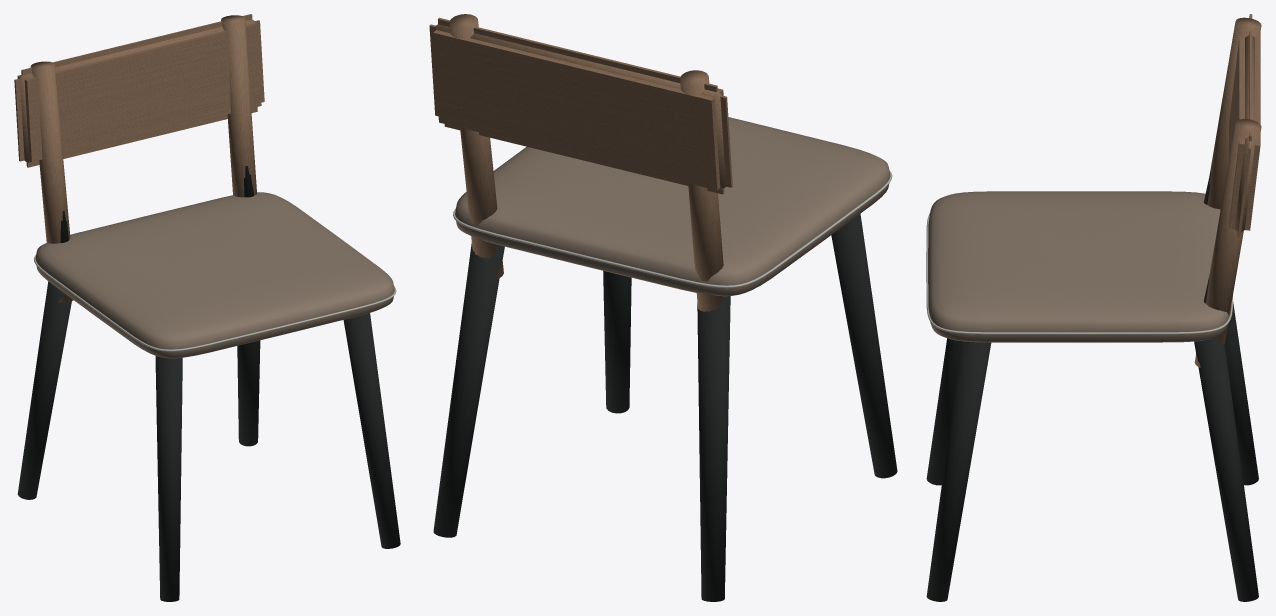
The model's file is industrial.dining_chair.gltf.
The picture shows the model from 3 angles, left to right: view 1: azimuth 30°, elevation 25°; view 2: azimuth 150°, elevation 25°; view 3: azimuth 270°, elevation 25°; orthographic projection. The views are drawn at different scales.
Visible parts, largest first — view 1: industrial.dining_chair.leg; view 2: industrial.dining_chair.leg; view 3: industrial.dining_chair.leg.
Boxes of the visible parts, x1=… form: industrial.dining_chair.leg: x1=14, y1=14, x2=400, y2=601; industrial.dining_chair.leg: x1=429, y1=14, x2=897, y2=601; industrial.dining_chair.leg: x1=926, y1=14, x2=1261, y2=601.
Size of the model in its own units: 0.4799 by 0.7806 by 0.5064.
Materials: 4 (2 with a texture image).
